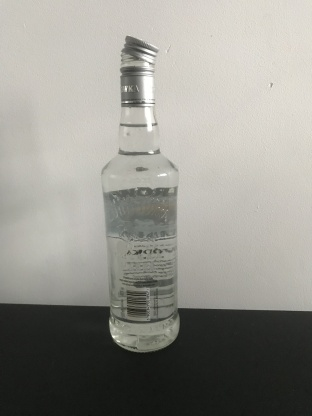nakretka: (118, 33, 160, 107)
